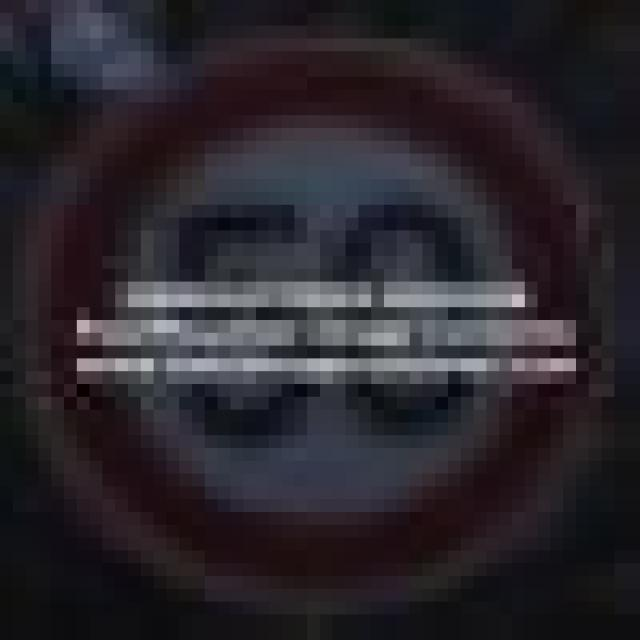SPEED_LIMIT_50: (26, 39, 576, 564)
